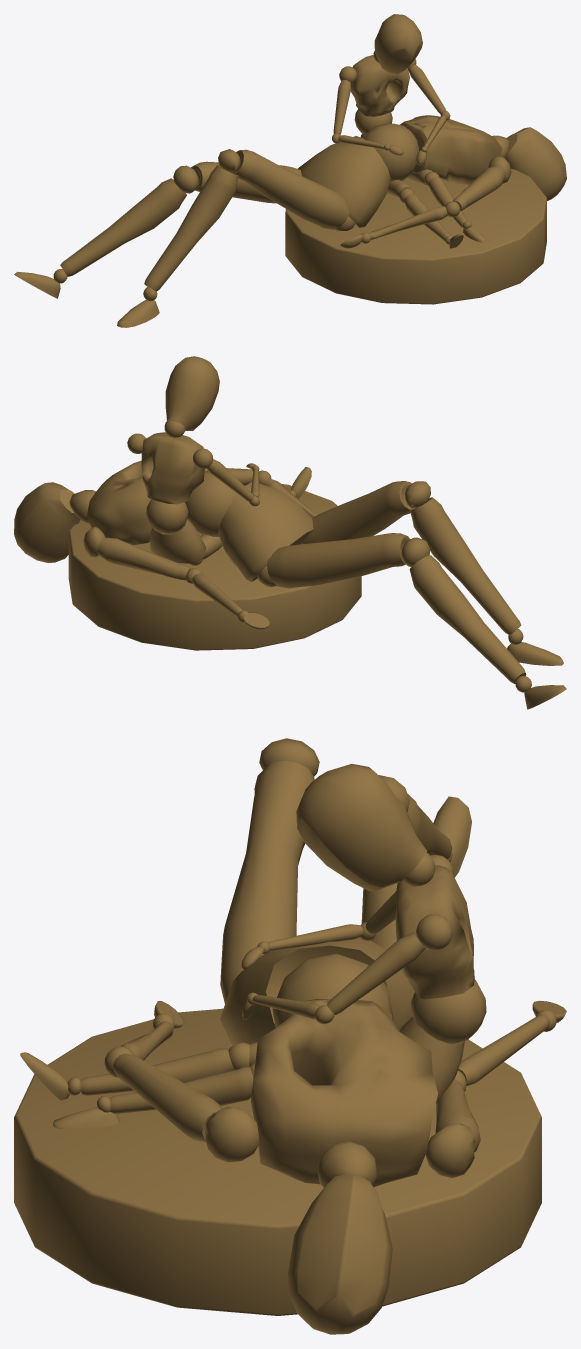
The model's file is maniquíChikito_pose_06.fbx.
3 views of the same model, one above another, from view 1: azimuth 30°, elevation 25°; view 2: azimuth 150°, elevation 25°; view 3: azimuth 270°, elevation 25° (orthographic). The views are drawn at different scales.
Visible parts, largest first — view 1: dummy_obj.003; view 2: dummy_obj.003; view 3: dummy_obj.003.
Boxes of the visible parts, <box> form: dummy_obj.003: <box>14,14,566,327</box>; dummy_obj.003: <box>14,356,566,709</box>; dummy_obj.003: <box>14,738,566,1334</box>.
Size of the model in its own units: 163 by 65.83 by 75.
